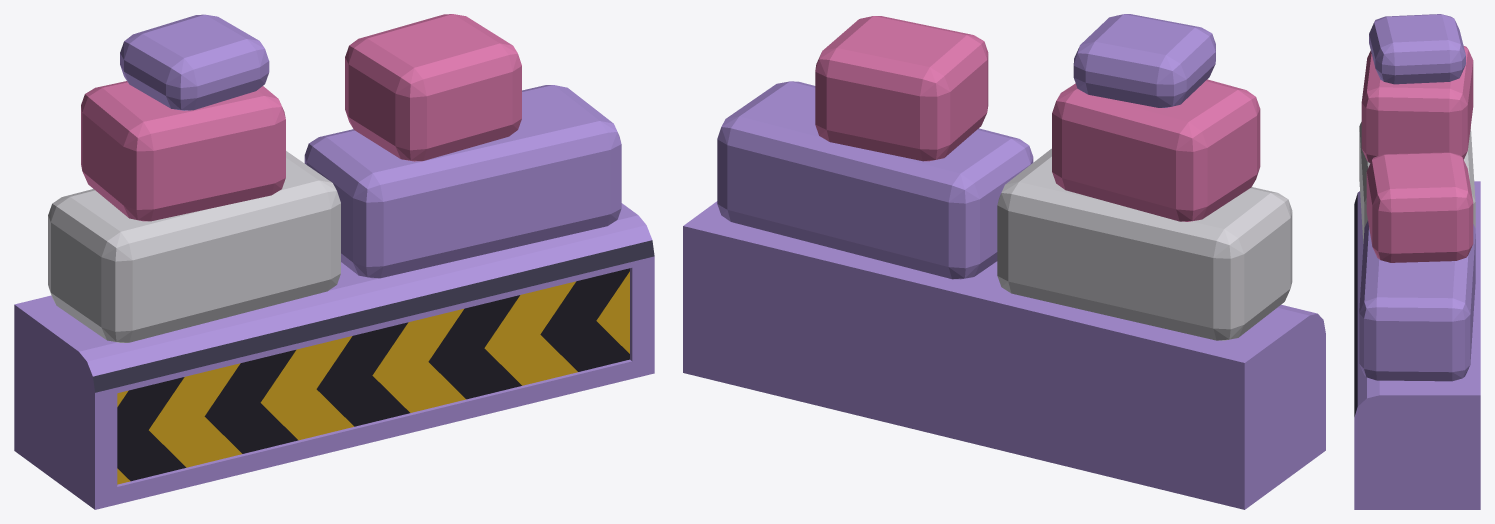
The model's file is city-barrier-blocks.glb.
The picture shows the model from 3 angles, left to right: view 1: azimuth 30°, elevation 25°; view 2: azimuth 150°, elevation 25°; view 3: azimuth 270°, elevation 25°; orthographic projection. The views are drawn at different scales.
Parts seen in each view (by area): view 1: CityBarrierBlocks; view 2: CityBarrierBlocks; view 3: CityBarrierBlocks.
Part boxes in pixels (bbox=[...]): CityBarrierBlocks: bbox=[14, 14, 654, 509]; CityBarrierBlocks: bbox=[683, 14, 1325, 509]; CityBarrierBlocks: bbox=[1354, 14, 1480, 509].
Bounding box in the file's own units: 2 × 1.4 × 0.5.
